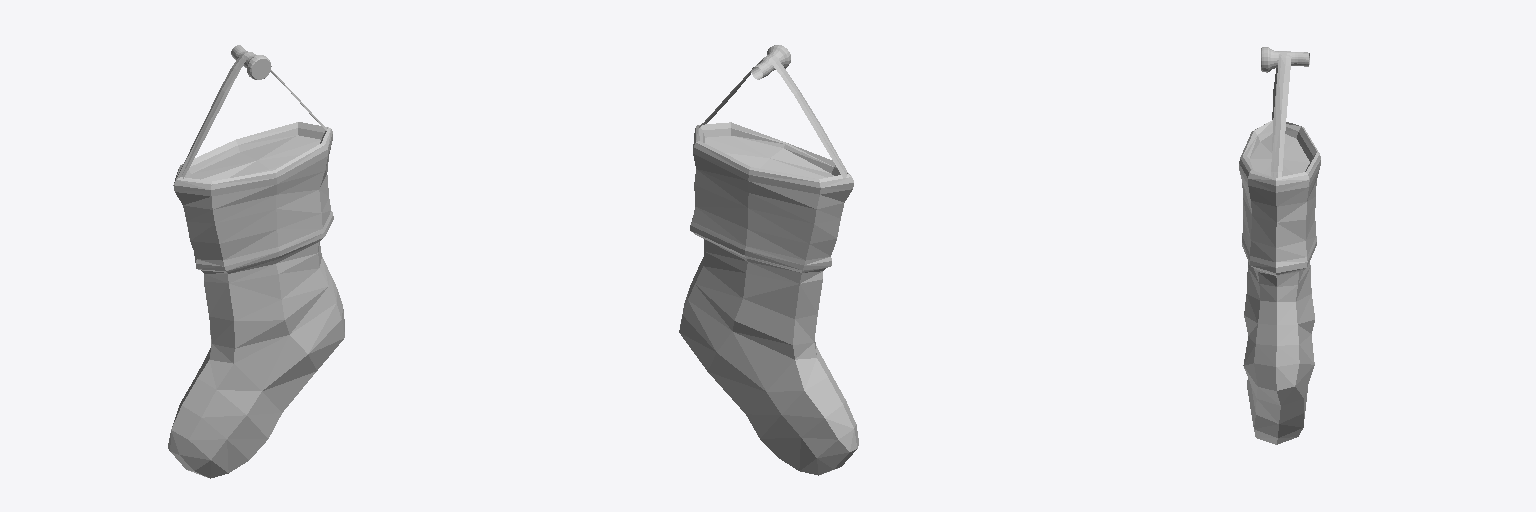
Rendered from bota2.obj.
3 views of the same model, side by side, from view 1: azimuth 30°, elevation 25°; view 2: azimuth 150°, elevation 25°; view 3: azimuth 270°, elevation 25° (orthographic).
Visible parts, largest first — view 1: tela_Noel_Sock_2020.004; view 2: tela_Noel_Sock_2020.004; view 3: tela_Noel_Sock_2020.004.
Part boxes in pixels (bbox=[...]): tela_Noel_Sock_2020.004: bbox=[168, 45, 344, 478]; tela_Noel_Sock_2020.004: bbox=[679, 45, 858, 475]; tela_Noel_Sock_2020.004: bbox=[1239, 47, 1320, 444].
Bounding box in the file's own units: 0.1238 × 0.2785 × 0.0502.